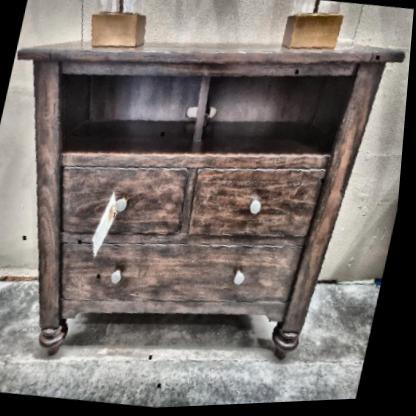Nightstand: (0, 8, 395, 360)
